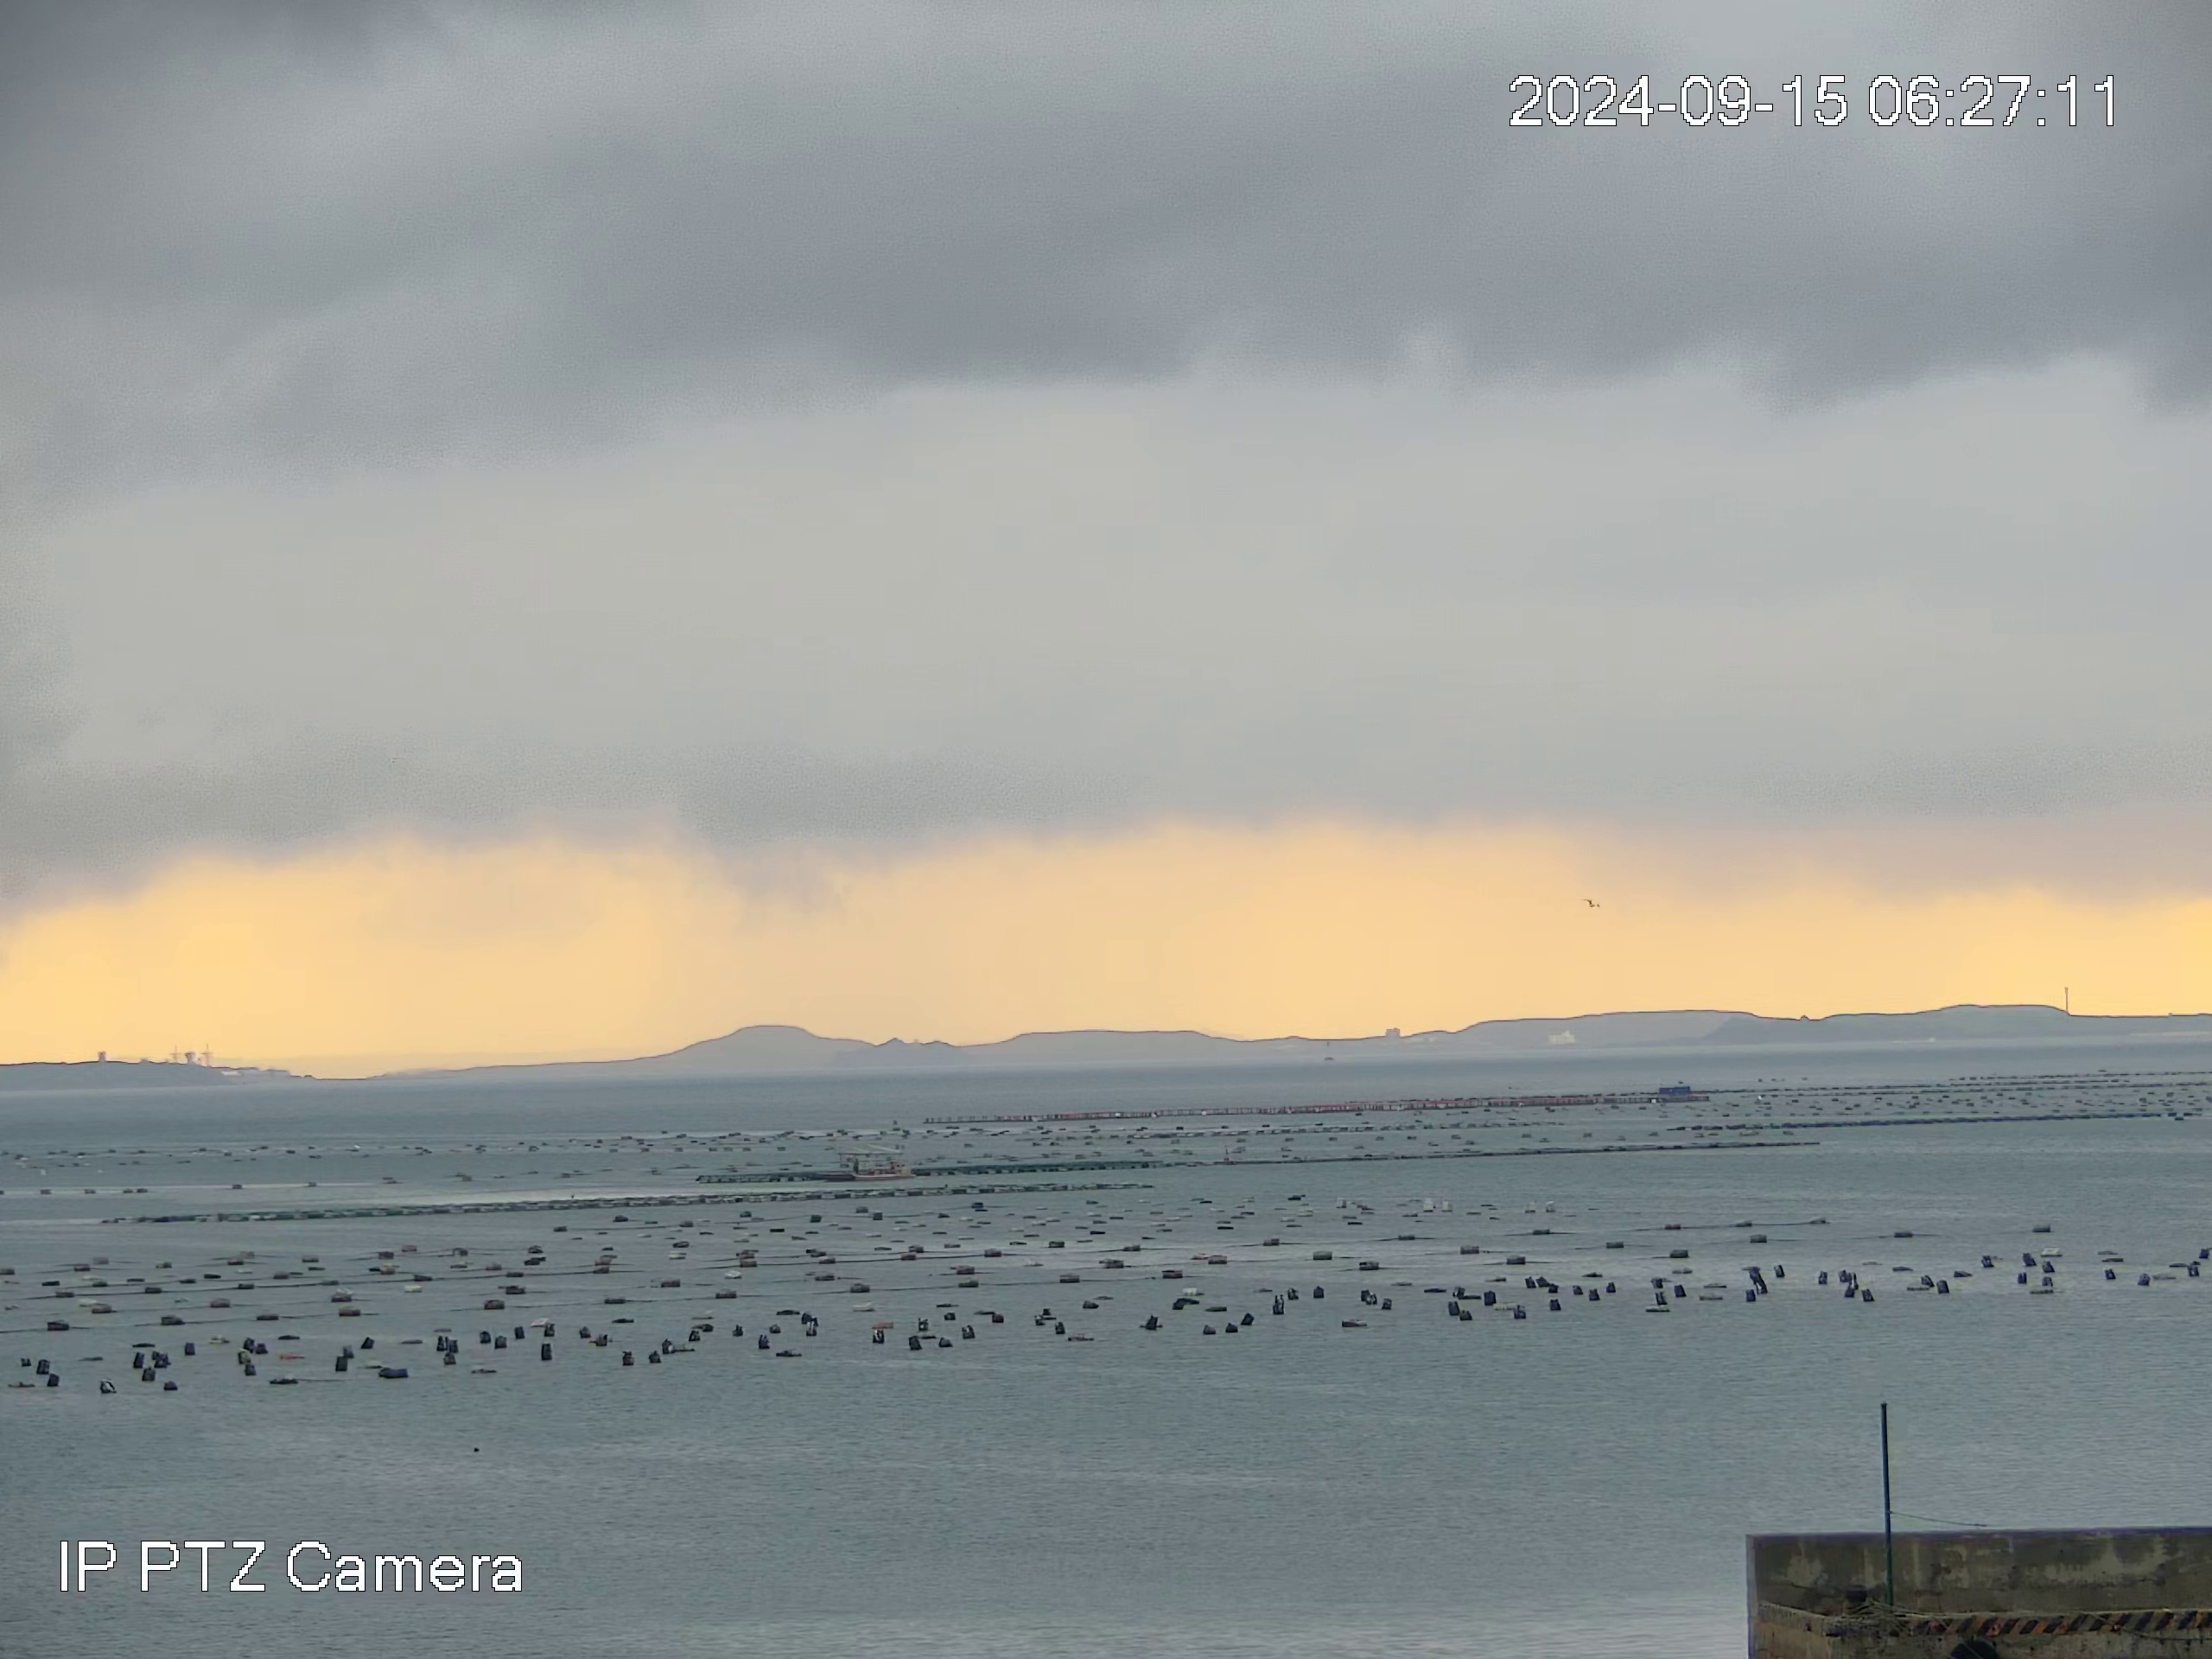boat: (833, 1138, 918, 1183)
